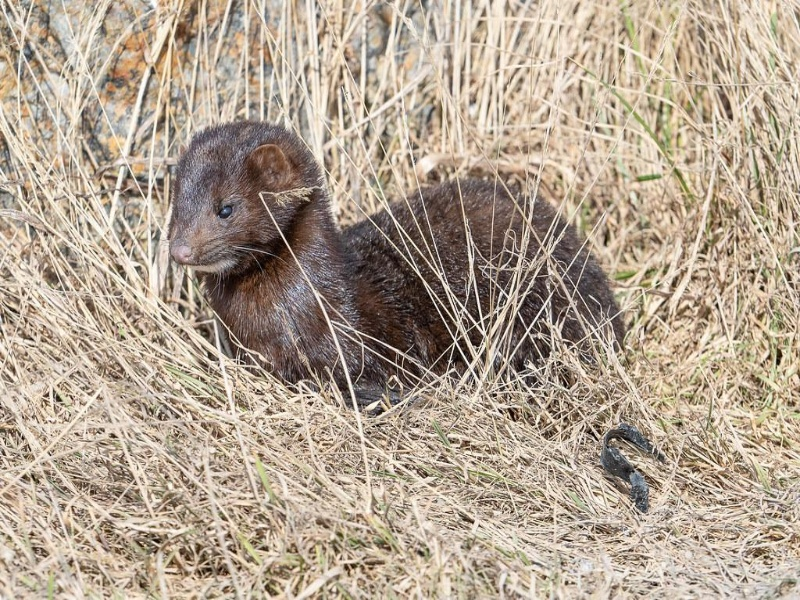minkish: (167, 121, 627, 401)
